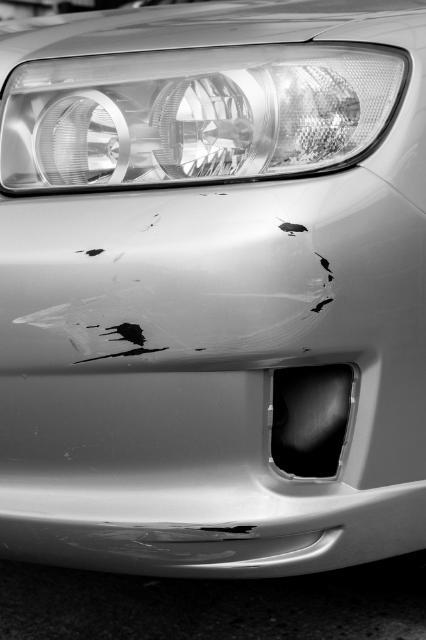Bumper: (6, 180, 402, 574)
